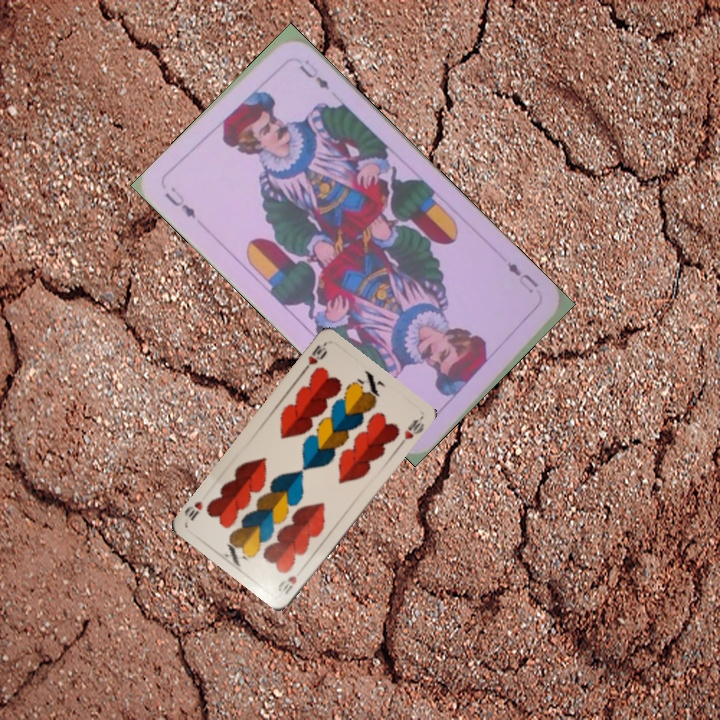EU: (160, 182, 199, 222), (503, 258, 541, 296)
H10: (299, 340, 330, 375), (275, 571, 300, 597)
